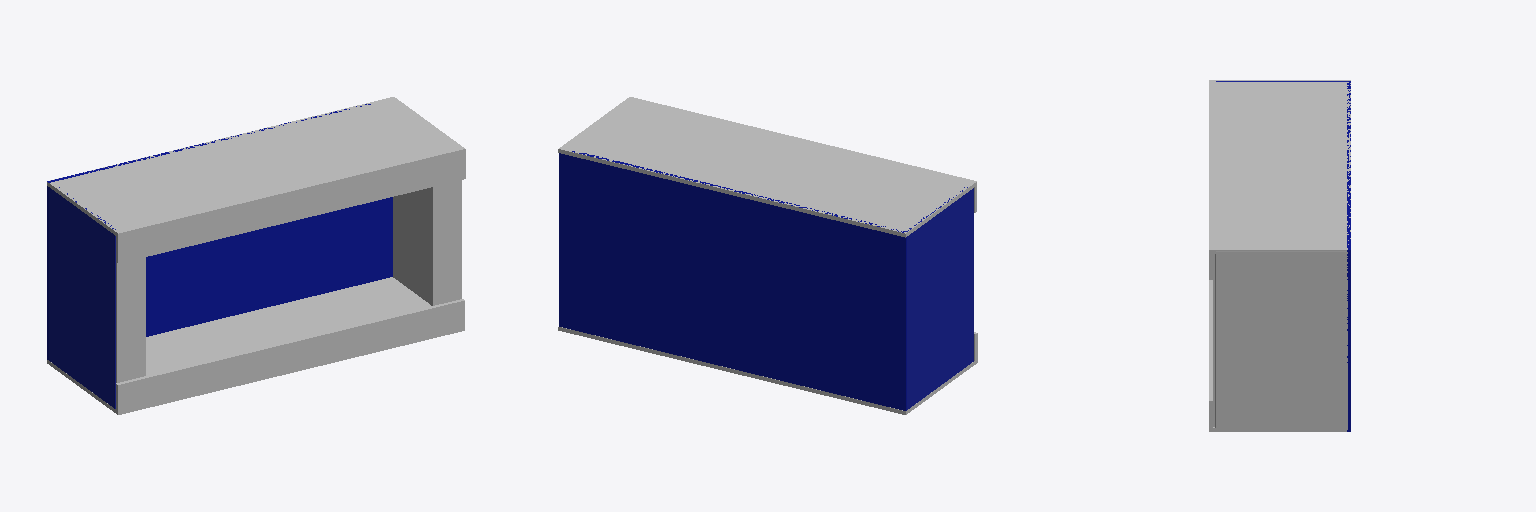
Rendered from pack-one.obj.
The picture shows the model from 3 angles: view 1: azimuth 30°, elevation 25°; view 2: azimuth 150°, elevation 25°; view 3: azimuth 270°, elevation 25°; orthographic projection.
Visible parts, largest first — view 1: 003_top, 002_back, 000_lft-side, 005_fringe-bottom, 006_fringe-top, 004_bottom, 001_rt-side, 008_fringe-rt-side, 007_fringe-lft-side; view 2: 002_back, 003_top, 000_lft-side, 004_bottom, 006_fringe-top; view 3: 001_rt-side, 003_top, 002_back, 005_fringe-bottom, 006_fringe-top.
Boxes of the visible parts, box(x1,y1,x2,y2) form: 003_top: box(47, 97, 463, 235); 002_back: box(47, 104, 392, 359); 000_lft-side: box(49, 187, 115, 408); 005_fringe-bottom: box(116, 299, 464, 414); 006_fringe-top: box(116, 148, 465, 263); 004_bottom: box(47, 277, 430, 412); 001_rt-side: box(393, 98, 458, 304); 008_fringe-rt-side: box(431, 151, 461, 305); 007_fringe-lft-side: box(116, 257, 145, 382); 002_back: box(559, 151, 906, 410); 003_top: box(558, 98, 975, 237); 000_lft-side: box(905, 187, 973, 409); 004_bottom: box(558, 327, 974, 414); 006_fringe-top: box(629, 97, 976, 212); 001_rt-side: box(1215, 248, 1347, 429); 003_top: box(1211, 80, 1350, 253); 002_back: box(1347, 81, 1350, 431); 005_fringe-bottom: box(1209, 280, 1212, 431); 006_fringe-top: box(1209, 80, 1212, 279).
Size of the model in its own units: 901 by 450 by 321.